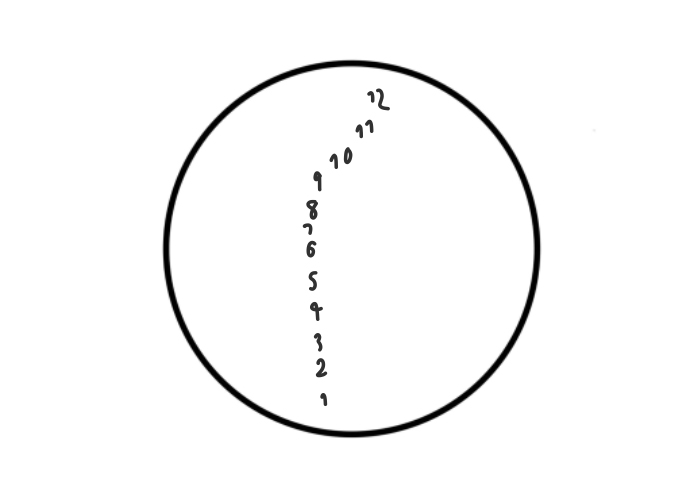eight: (304, 199, 320, 219)
eleven: (353, 119, 374, 140)
five: (304, 268, 319, 292)
four: (306, 300, 326, 322)
nine: (312, 170, 324, 193)
one: (317, 390, 330, 408)
seven: (300, 222, 315, 236)
six: (302, 239, 319, 258)
ten: (328, 146, 352, 170)
three: (312, 331, 326, 354)
twelve: (366, 88, 389, 110)
two: (314, 357, 329, 381)
